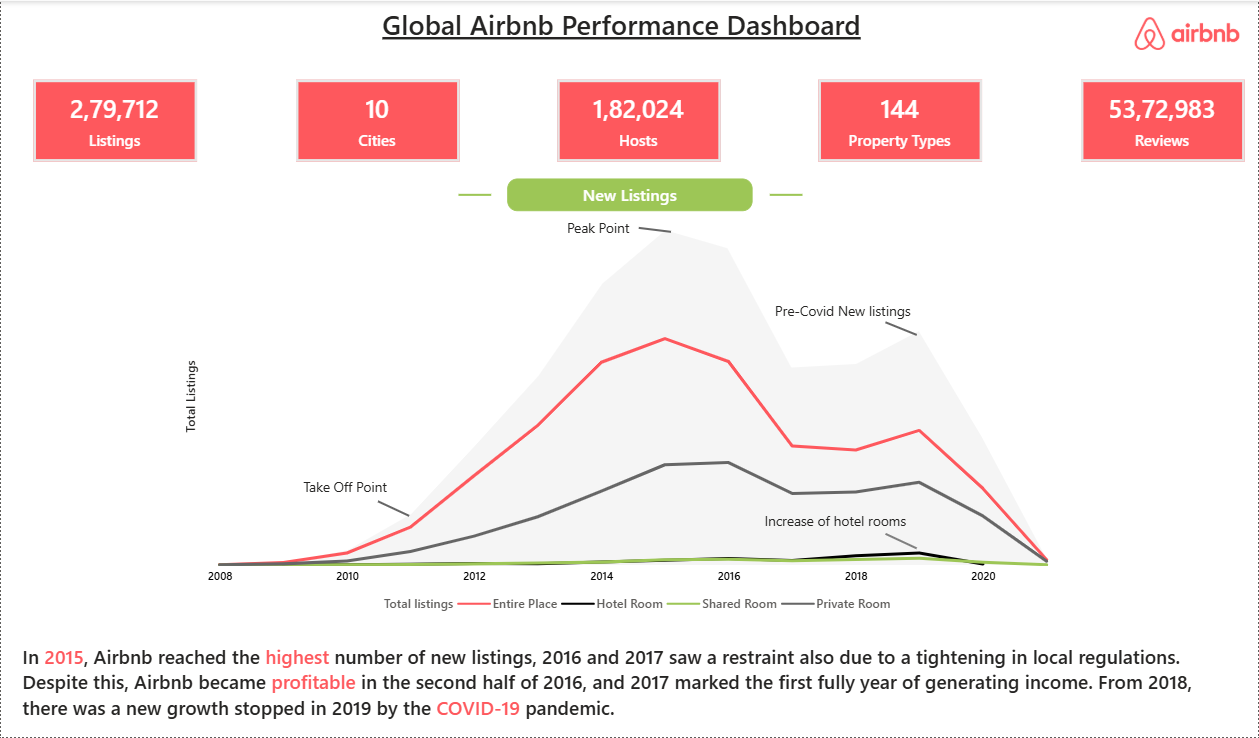

Layout of this report page (visuals, bound fields, positions):
{"tool":"powerbi","page":{"name":"Overview","canvas":[1230,720],"ordinal":0},"visuals":[{"type":"textbox","box":[368,0,480,48],"z":0},{"type":"image","box":[1104,16,112,32],"z":1000},{"type":"card","fields":{"Values":["CountNonNull(Listings.listing_id)"]},"box":[32,76.4,160,80],"z":2000},{"type":"card","fields":{"Values":["Count(Listings.property_type)"]},"box":[800,76.4,160,80],"z":3000},{"type":"card","fields":{"Values":["Count(Reviews.review_id)"]},"box":[1056,76.4,160,80],"z":4000},{"type":"card","fields":{"Values":["Count(Listings.city)"]},"box":[288,76.4,160,80],"z":5000},{"type":"card","fields":{"Values":["Count(Listings.host_id)"]},"box":[544,76.4,160,80],"z":6000},{"type":"lineChart","fields":{"Category":["Listings.host_since.Variation.Date Hierarchy.Year"],"Y":["Count(Listings.listing_id)","Listings.Entire Place","Listings.Hotel Room","Listings.Shared Room","Listings.Private Room"]},"box":[176,208,864,400],"z":7000},{"type":"textbox","box":[495,173.2,240,32],"z":8000},{"type":"shape","box":[448,173.2,32,32],"z":9000},{"type":"shape","box":[752,173.2,32,32],"z":10000},{"type":"textbox","box":[288,464,96,32],"z":11000},{"type":"shape","box":[368,480,32,32],"z":12000},{"type":"textbox","box":[736,496,160,32],"z":13000},{"type":"shape","box":[864,512,32,32],"z":14000},{"type":"textbox","box":[752,288,144,32],"z":15000},{"type":"shape","box":[864,304,32,32],"z":16000},{"type":"textbox","box":[544,208,80,32],"z":17000},{"type":"shape","box":[624,208,32,32],"z":18000},{"type":"textbox","box":[16,624,1200,96],"z":19000}]}

Visuals, with their boxes in screenshot pixels (x1, y1, x2, y2), scaled from the page's 1230x720 canvas onto the 1259x738 screenshot:
textbox: bbox(377, 0, 868, 49)
image: bbox(1130, 16, 1245, 49)
card - CountNonNull(Listings.listing_id): bbox(33, 78, 197, 160)
card - Count(Listings.property_type): bbox(819, 78, 983, 160)
card - Count(Reviews.review_id): bbox(1081, 78, 1245, 160)
card - Count(Listings.city): bbox(295, 78, 459, 160)
card - Count(Listings.host_id): bbox(557, 78, 721, 160)
lineChart - Listings.host_since.Variation.Date Hierarchy.Year x Count(Listings.listing_id): bbox(180, 213, 1065, 623)
textbox: bbox(507, 178, 752, 210)
shape: bbox(459, 178, 491, 210)
shape: bbox(770, 178, 802, 210)
textbox: bbox(295, 476, 393, 508)
shape: bbox(377, 492, 409, 525)
textbox: bbox(753, 508, 917, 541)
shape: bbox(884, 525, 917, 558)
textbox: bbox(770, 295, 917, 328)
shape: bbox(884, 312, 917, 344)
textbox: bbox(557, 213, 639, 246)
shape: bbox(639, 213, 671, 246)
textbox: bbox(16, 640, 1245, 737)
